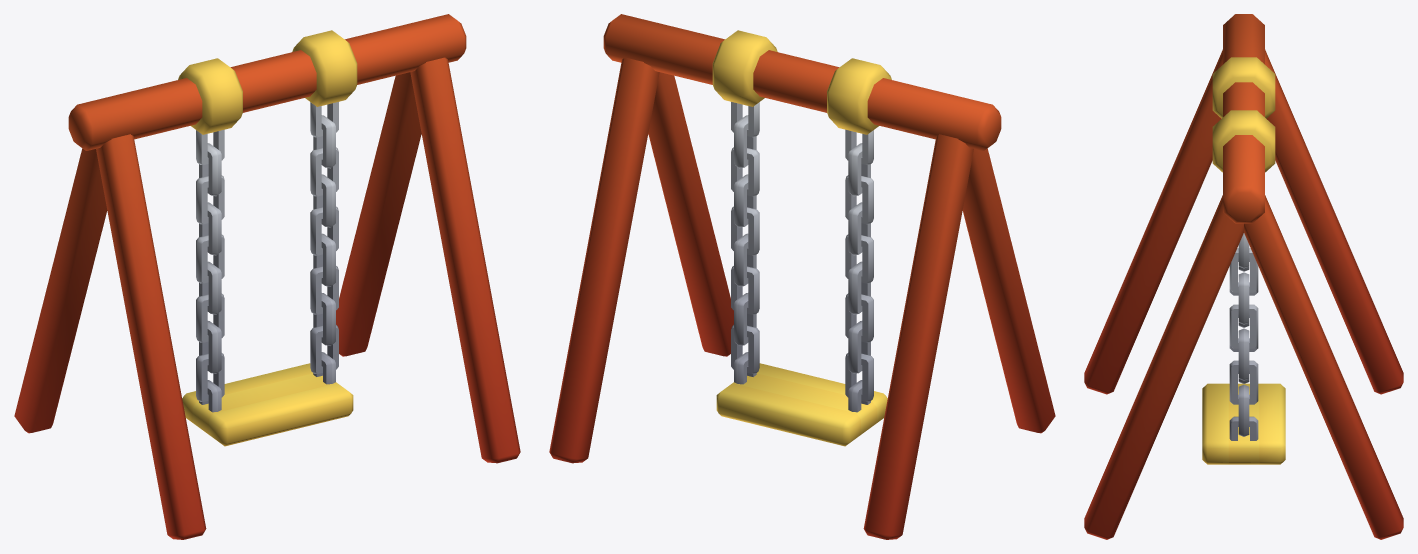
Rendered from swing_A_small.gltf.
3 renders of one model, left to right at view 1: azimuth 30°, elevation 25°; view 2: azimuth 150°, elevation 25°; view 3: azimuth 270°, elevation 25°, orthographic. The views are drawn at different scales.
Visible parts, largest first — view 1: swing_A_small, swing_A_small_seat; view 2: swing_A_small, swing_A_small_seat; view 3: swing_A_small, swing_A_small_seat.
Part boxes in pixels (<box>): swing_A_small: <box>14,14,520,539</box>; swing_A_small_seat: <box>182,102,353,446</box>; swing_A_small: <box>549,14,1055,539</box>; swing_A_small_seat: <box>716,102,887,446</box>; swing_A_small: <box>1084,14,1403,539</box>; swing_A_small_seat: <box>1202,233,1285,464</box>.
Size of the model in its own units: 4 by 3.94 by 3.06.
1 material, 1 textured.
